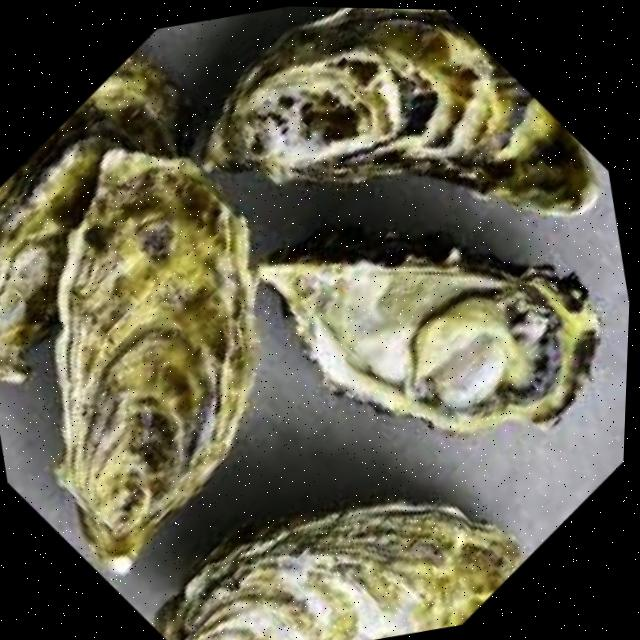Oyster-Indeterminate: (46, 146, 263, 580), (202, 7, 607, 225), (0, 46, 211, 391), (155, 501, 523, 640)
Oyster-Open: (259, 249, 600, 438)
